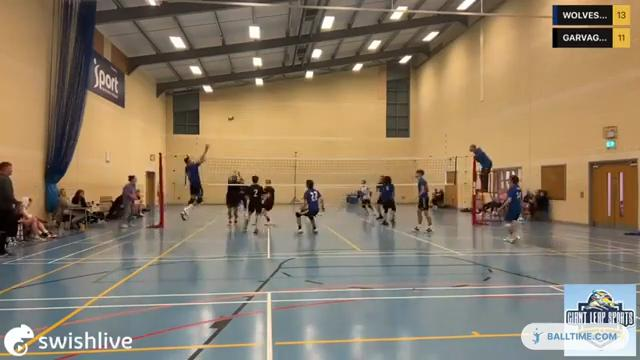Attack: (177, 142, 209, 223)
Player: (499, 175, 521, 243), (296, 180, 323, 233), (244, 175, 263, 233), (414, 169, 431, 231), (226, 173, 240, 225), (380, 176, 395, 224), (360, 180, 375, 215), (263, 179, 274, 225), (375, 175, 384, 219), (238, 172, 246, 216)
ball: (228, 114, 234, 122)
